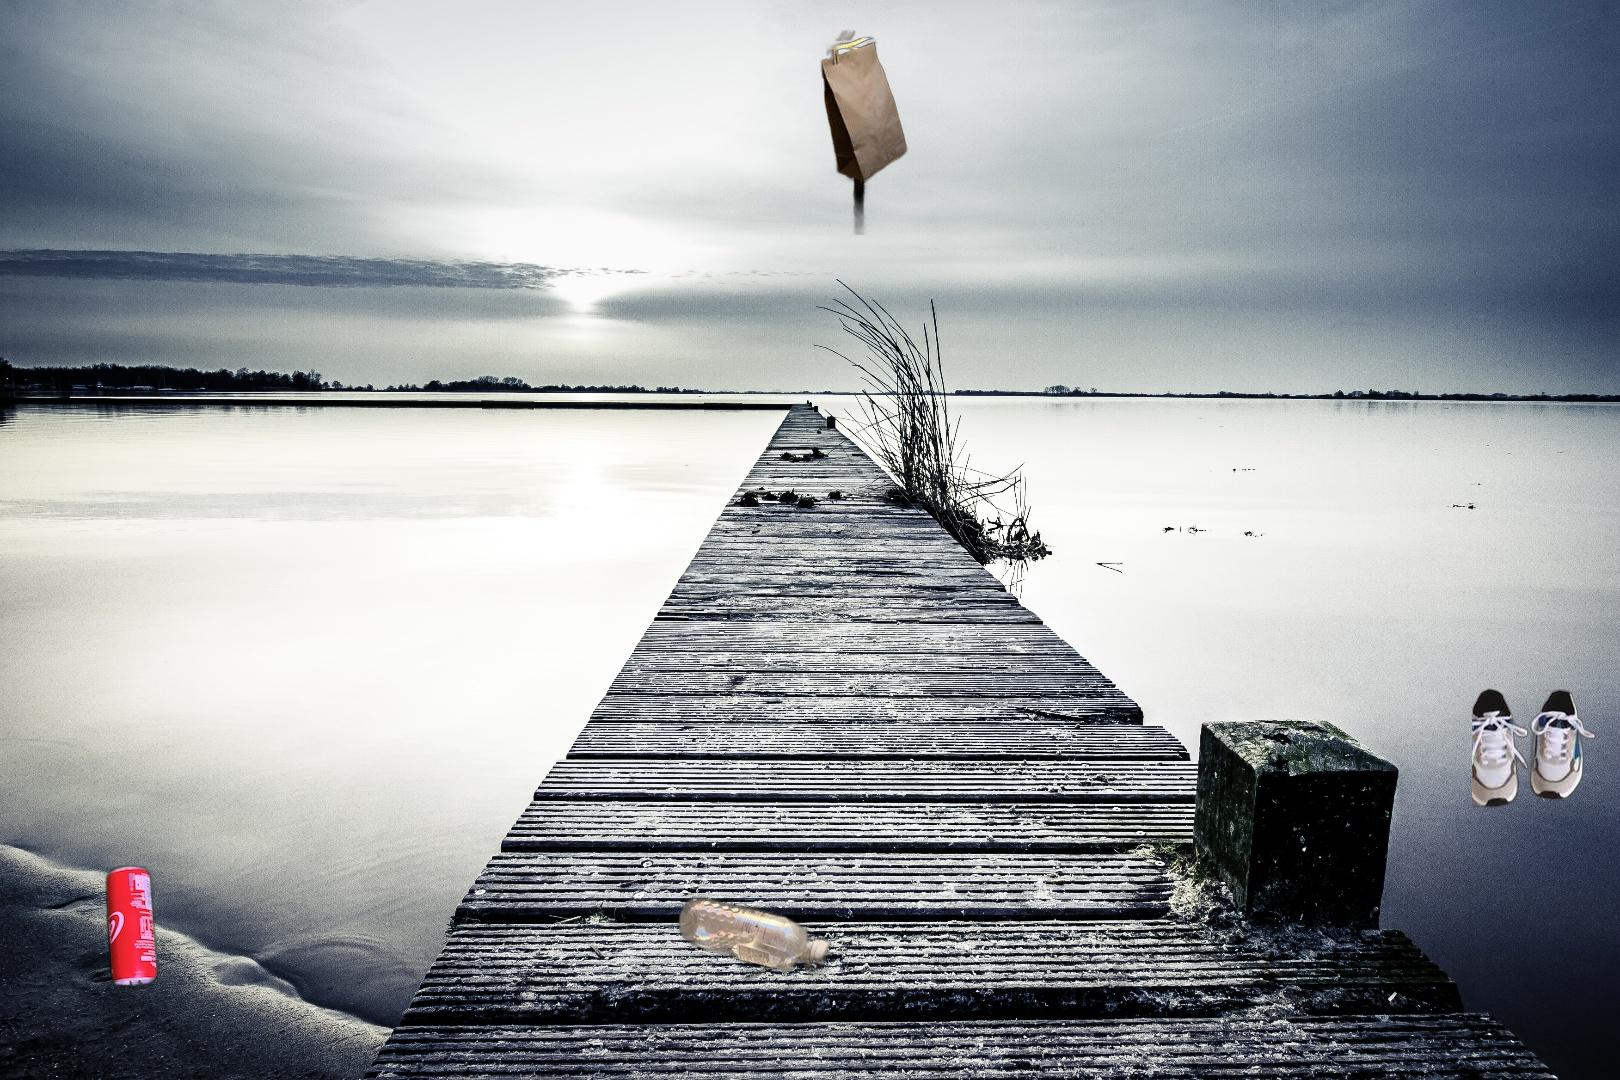metal-cans: (102, 859, 162, 993)
paper-bag: (799, 28, 910, 235)
plastic-bottles: (553, 892, 838, 1080)
shoes: (1472, 685, 1598, 812)
